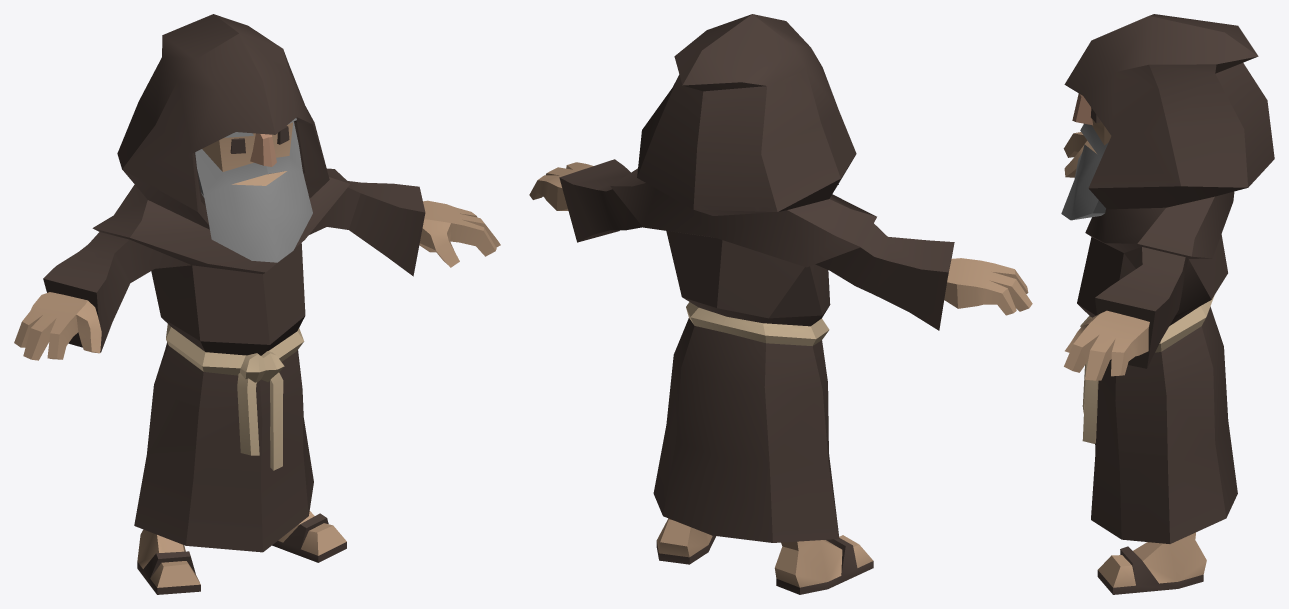
File: monk.glb
The picture shows the model from 3 angles, left to right: view 1: azimuth 30°, elevation 25°; view 2: azimuth 150°, elevation 25°; view 3: azimuth 270°, elevation 25°; orthographic projection. The views are drawn at different scales.
Parts seen in each view (by area): view 1: monk_0; view 2: monk_0; view 3: monk_0.
Part boxes in pixels (left/top/right/bottom): monk_0: left=14, top=14, right=500, bottom=594; monk_0: left=529, top=14, right=1032, bottom=594; monk_0: left=1061, top=14, right=1274, bottom=594.
Size of the model in its own units: 1.45 by 1.53 by 0.5552.
1 material, 1 textured.
